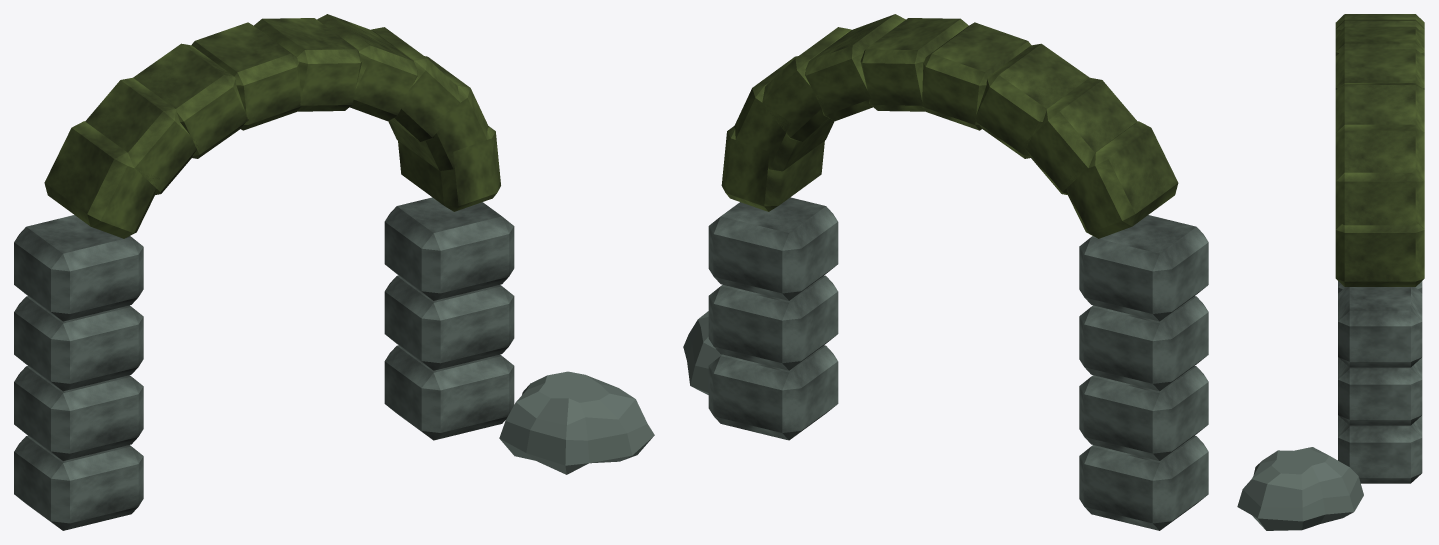
File: ruin_arch.glb
The picture shows the model from 3 angles, left to right: view 1: azimuth 30°, elevation 25°; view 2: azimuth 150°, elevation 25°; view 3: azimuth 270°, elevation 25°; orthographic projection. The views are drawn at different scales.
Parts seen in each view (by area): view 1: ruin_arch; view 2: ruin_arch; view 3: ruin_arch.
Boxes of the visible parts, x1=… form: ruin_arch: x1=14, y1=14, x2=654, y2=530; ruin_arch: x1=683, y1=14, x2=1208, y2=530; ruin_arch: x1=1237, y1=14, x2=1424, y2=530.
Bounding box in the file's own units: 5.98 × 4.54 × 2.11.
Materials: 2 (2 with a texture image).
